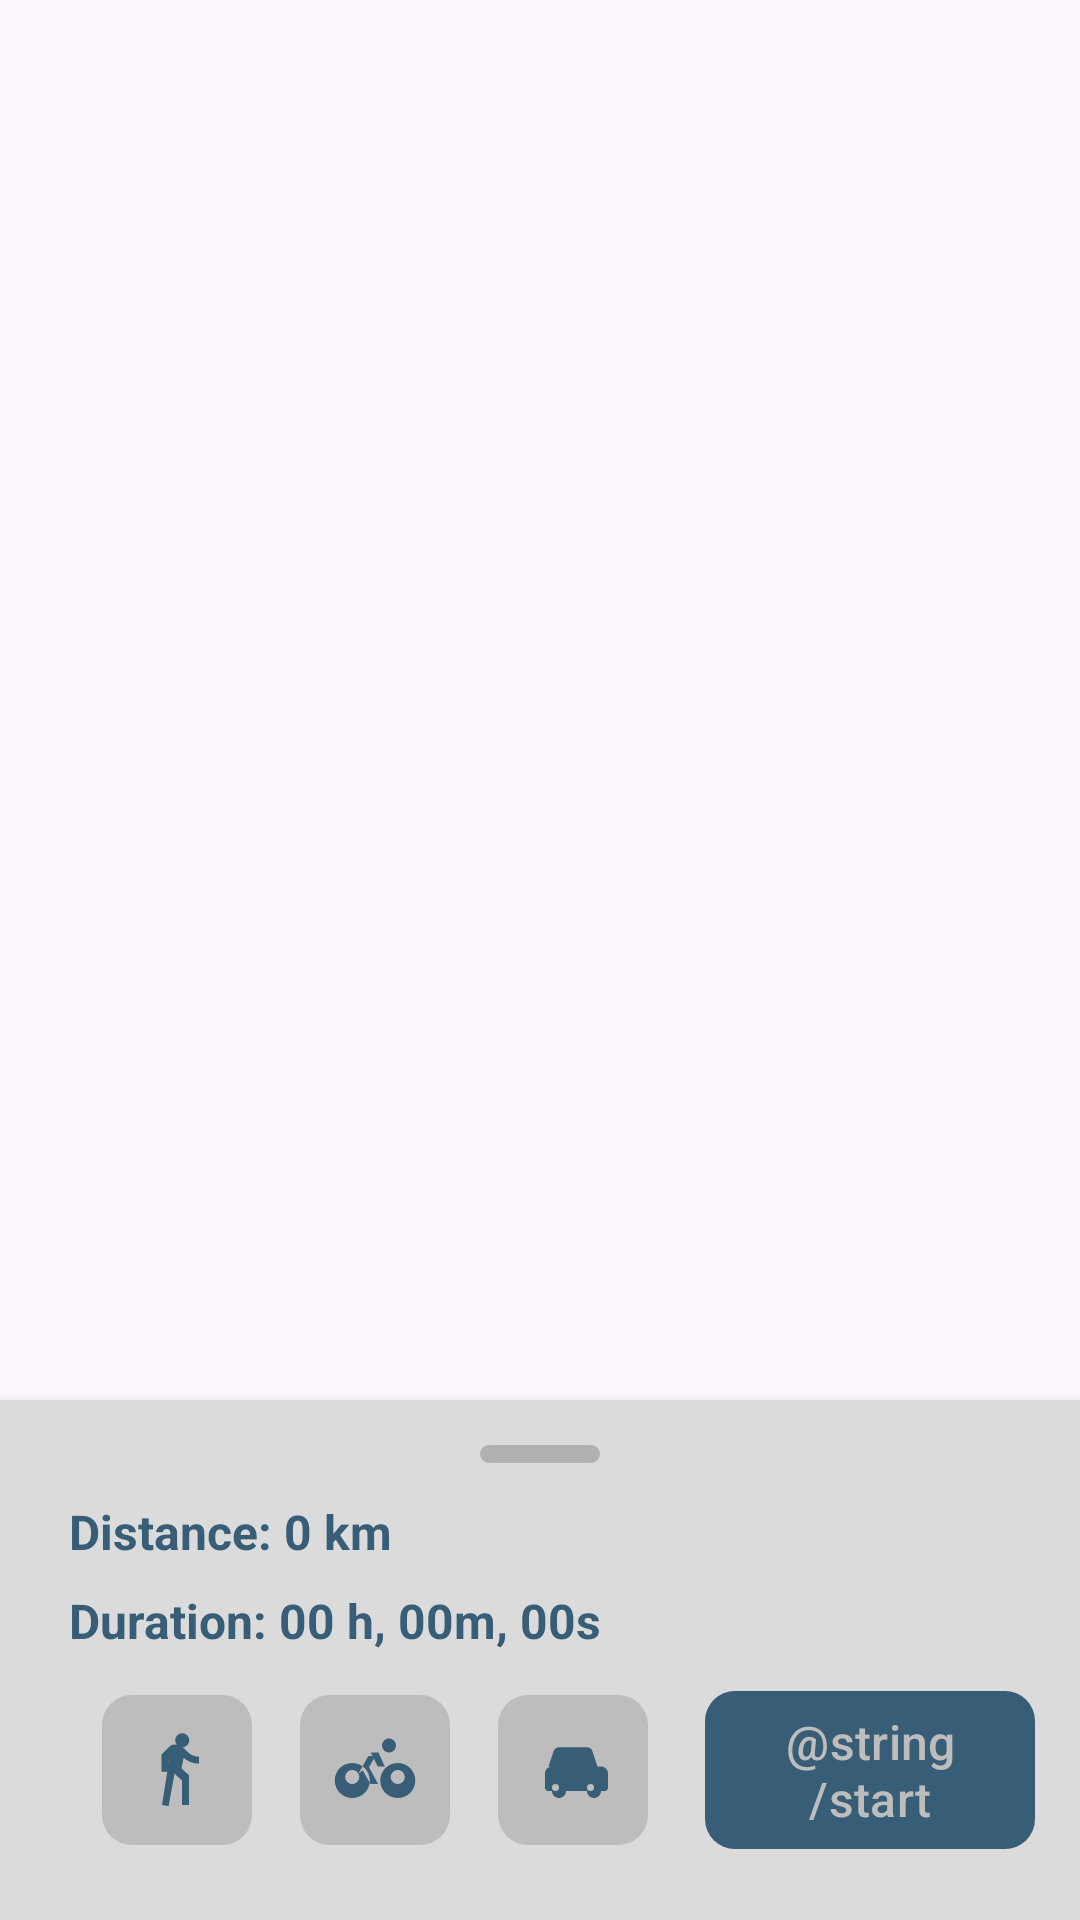

Icons on this 1080x1920 Android screen, each with its box as (x1, y1, x2, y2):
Bike: (300, 1695, 450, 1845)
Car: (498, 1695, 648, 1845)
Walk: (102, 1695, 252, 1845)
